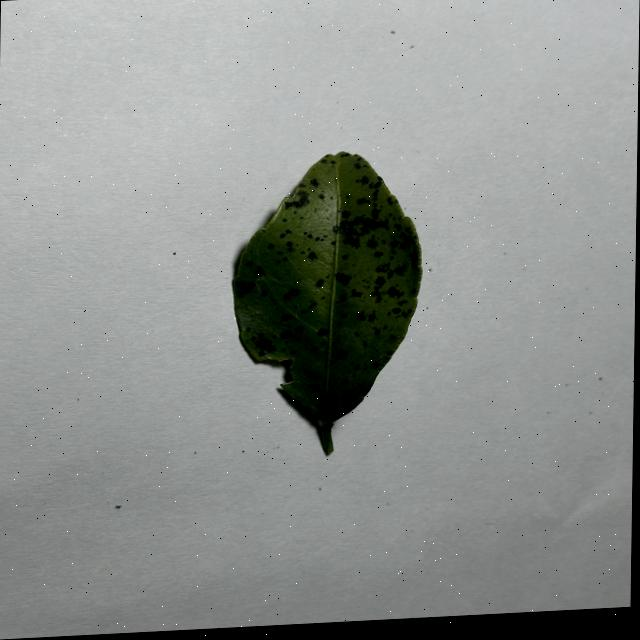sooty_mold: (232, 151, 422, 454)
